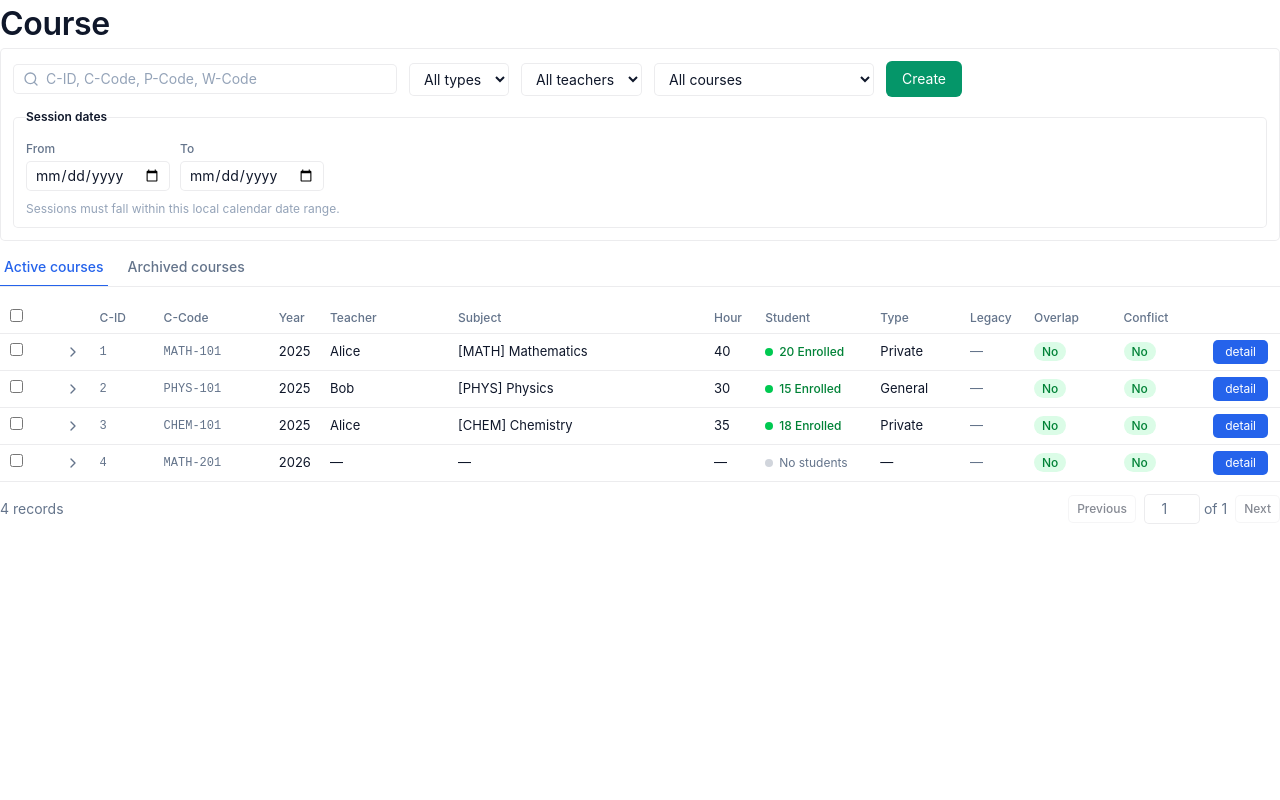
it: Courses bulk editor › clears selection after successful delete
This screenshot has width=1280, height=800.
expect the text "MATH-101" is shown: met, box x1=164 y1=344 x2=221 y2=360
Click the checkbox named "Select MATH-101": (16,350) x1=10 y1=343 x2=23 y2=356
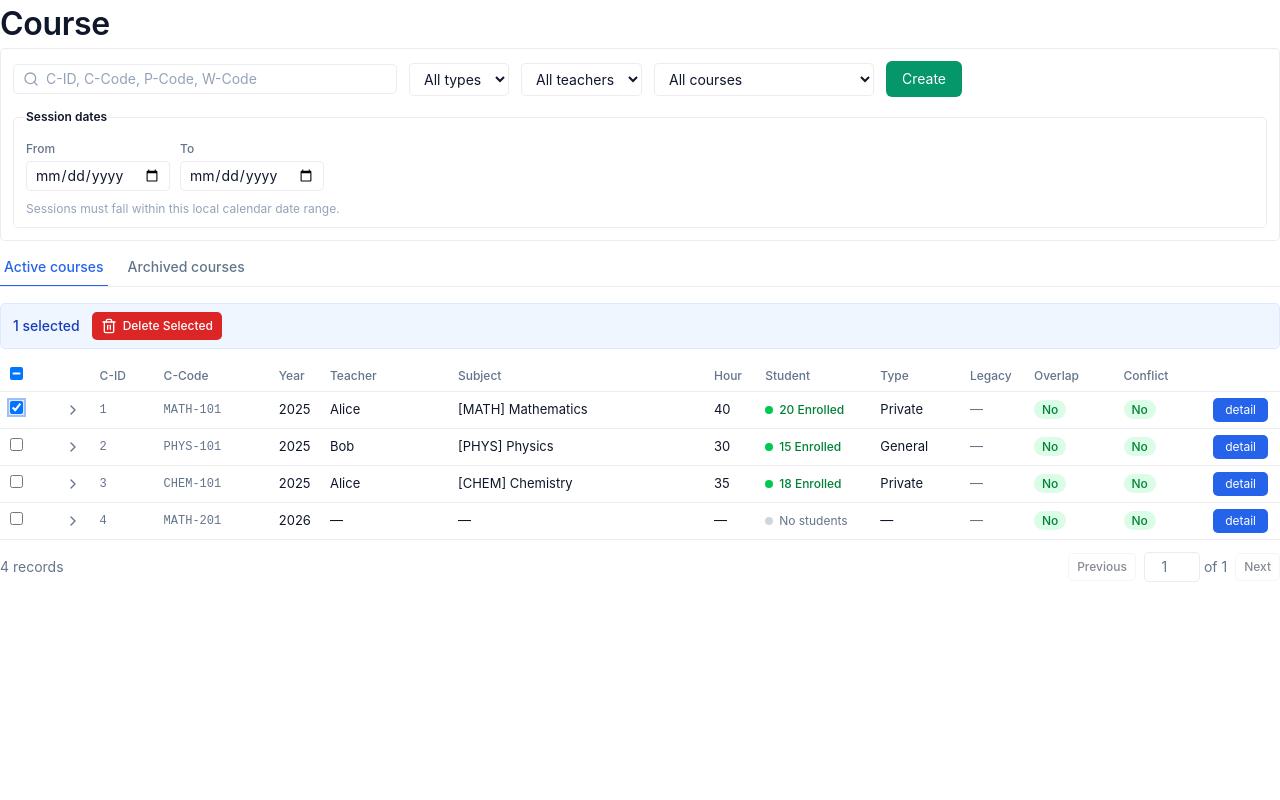
expect the text "1 selected" is shown: met, box x1=13 y1=316 x2=80 y2=336
Click the button "Delete Selected": (157,326) x1=92 y1=312 x2=222 y2=340
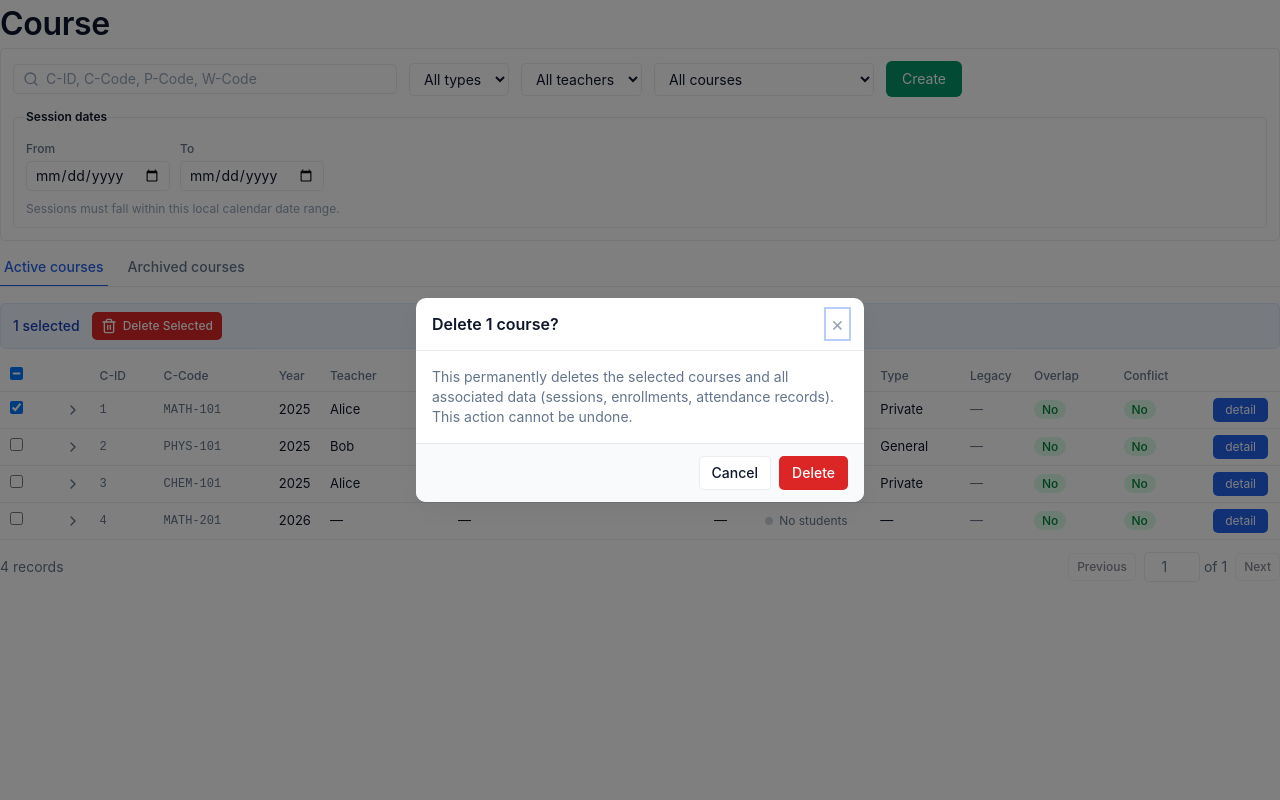
expect the heading "Delete 1 course?" is shown: met, box x1=432 y1=312 x2=559 y2=336
Click the button "Delete": (814,473) x1=779 y1=456 x2=848 y2=490
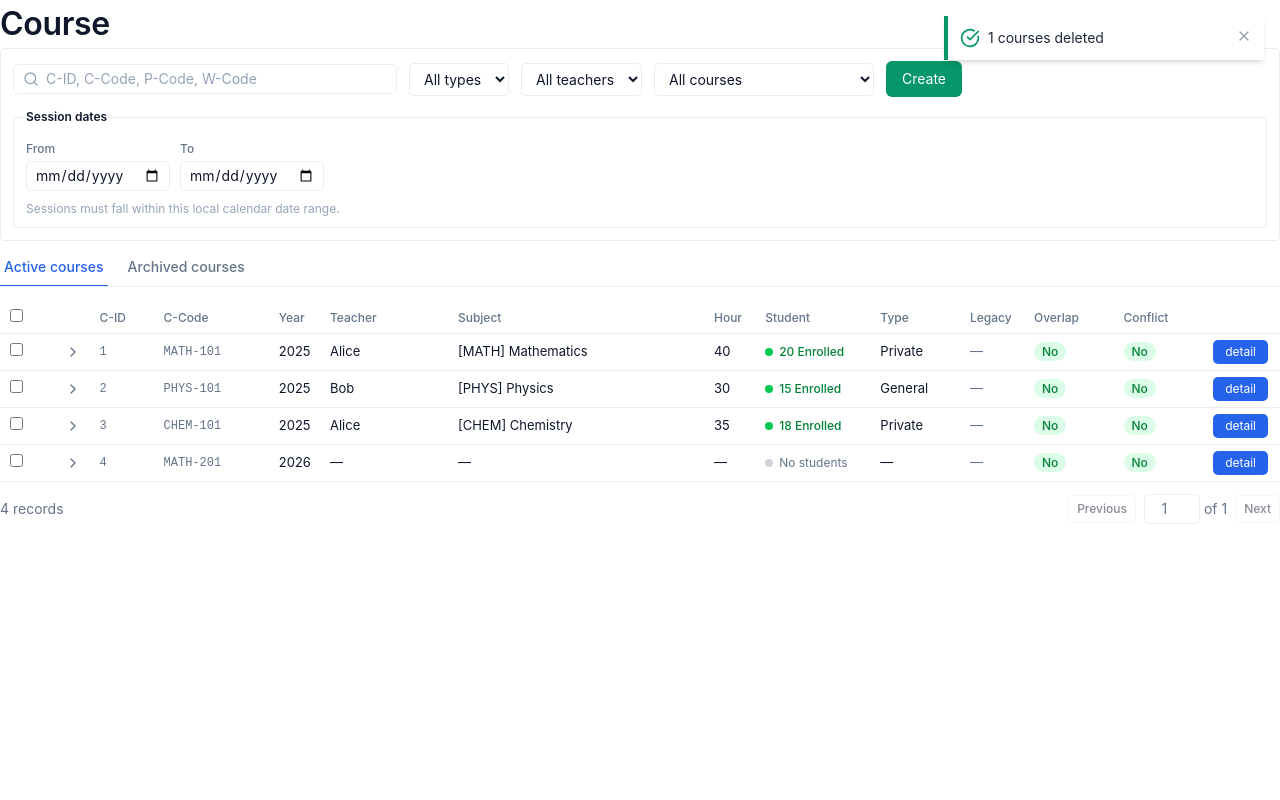
expect the text "1 selected" is gone: met
